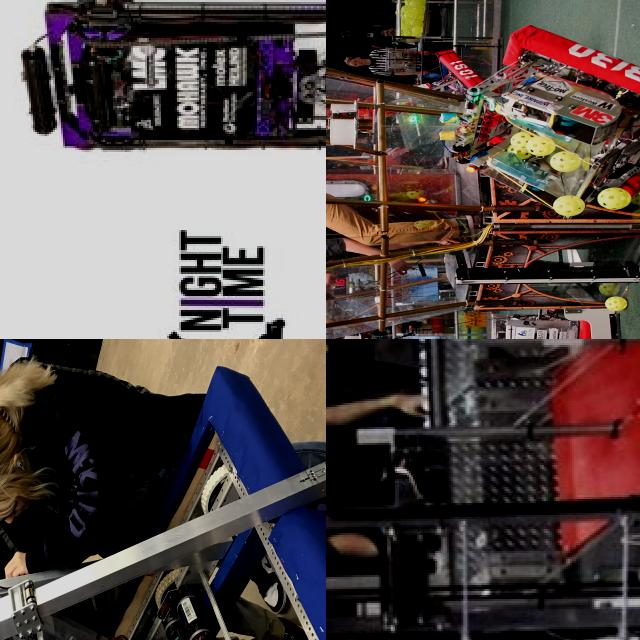FRC-Robots: (0, 0, 326, 306), (326, 339, 640, 640), (0, 355, 326, 640), (456, 17, 640, 217), (444, 281, 622, 339)
